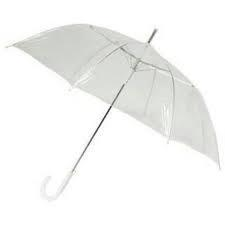Umbrella: (4, 19, 223, 172)
